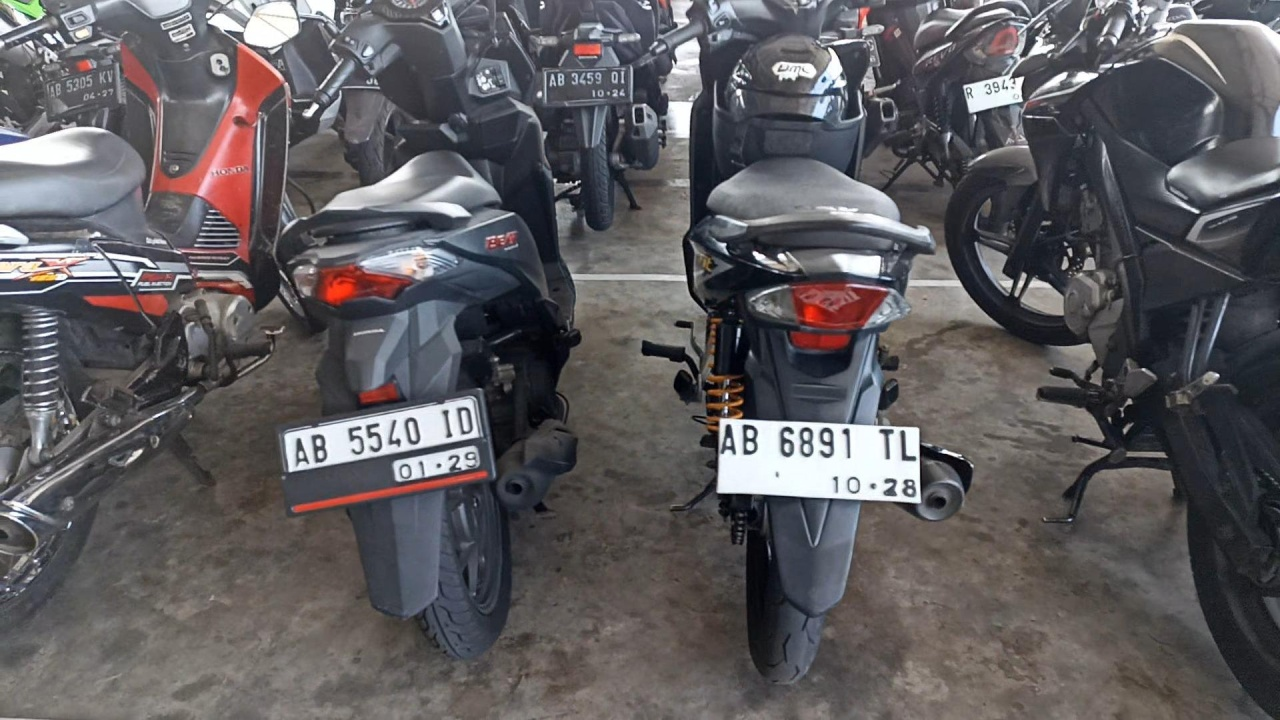plate: (278, 393, 493, 514), (717, 418, 922, 504), (544, 67, 632, 106)
